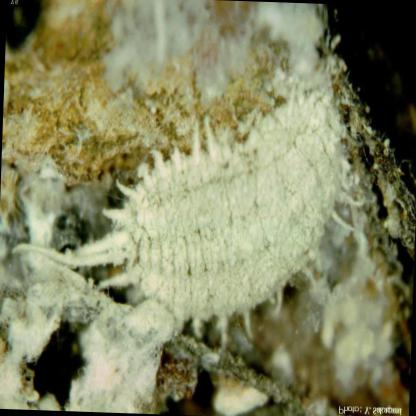mealy bug: (64, 58, 347, 316)
